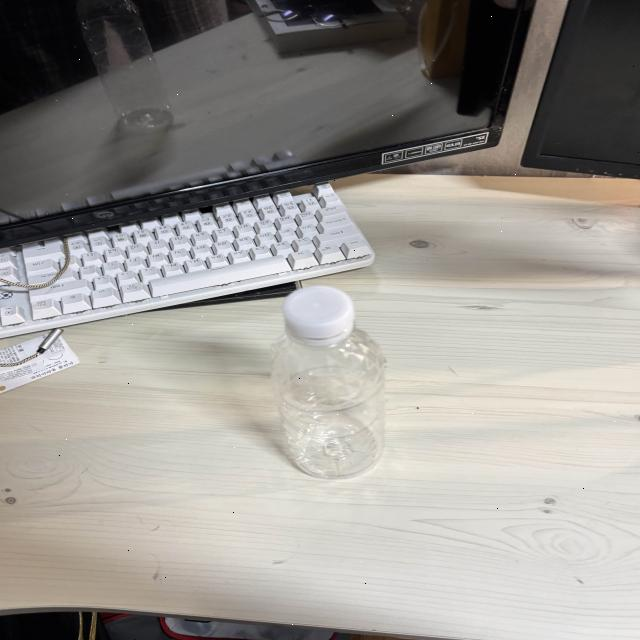Plastic: (253, 276, 400, 492)
